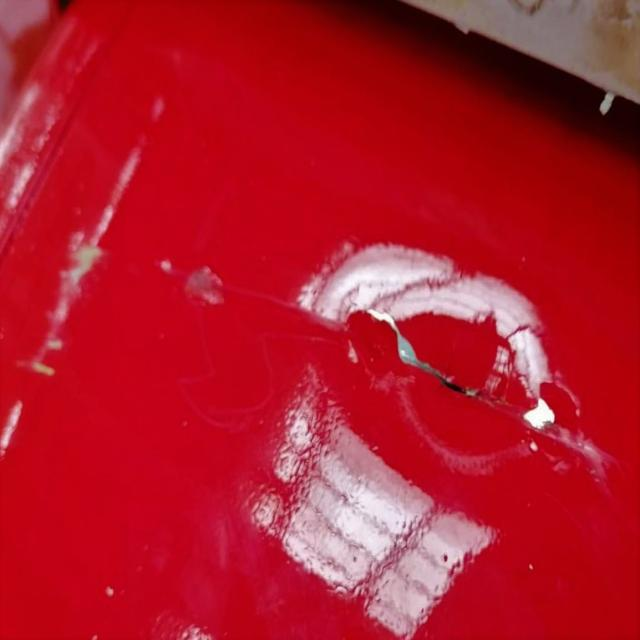Rupture: (189, 238, 592, 471)
